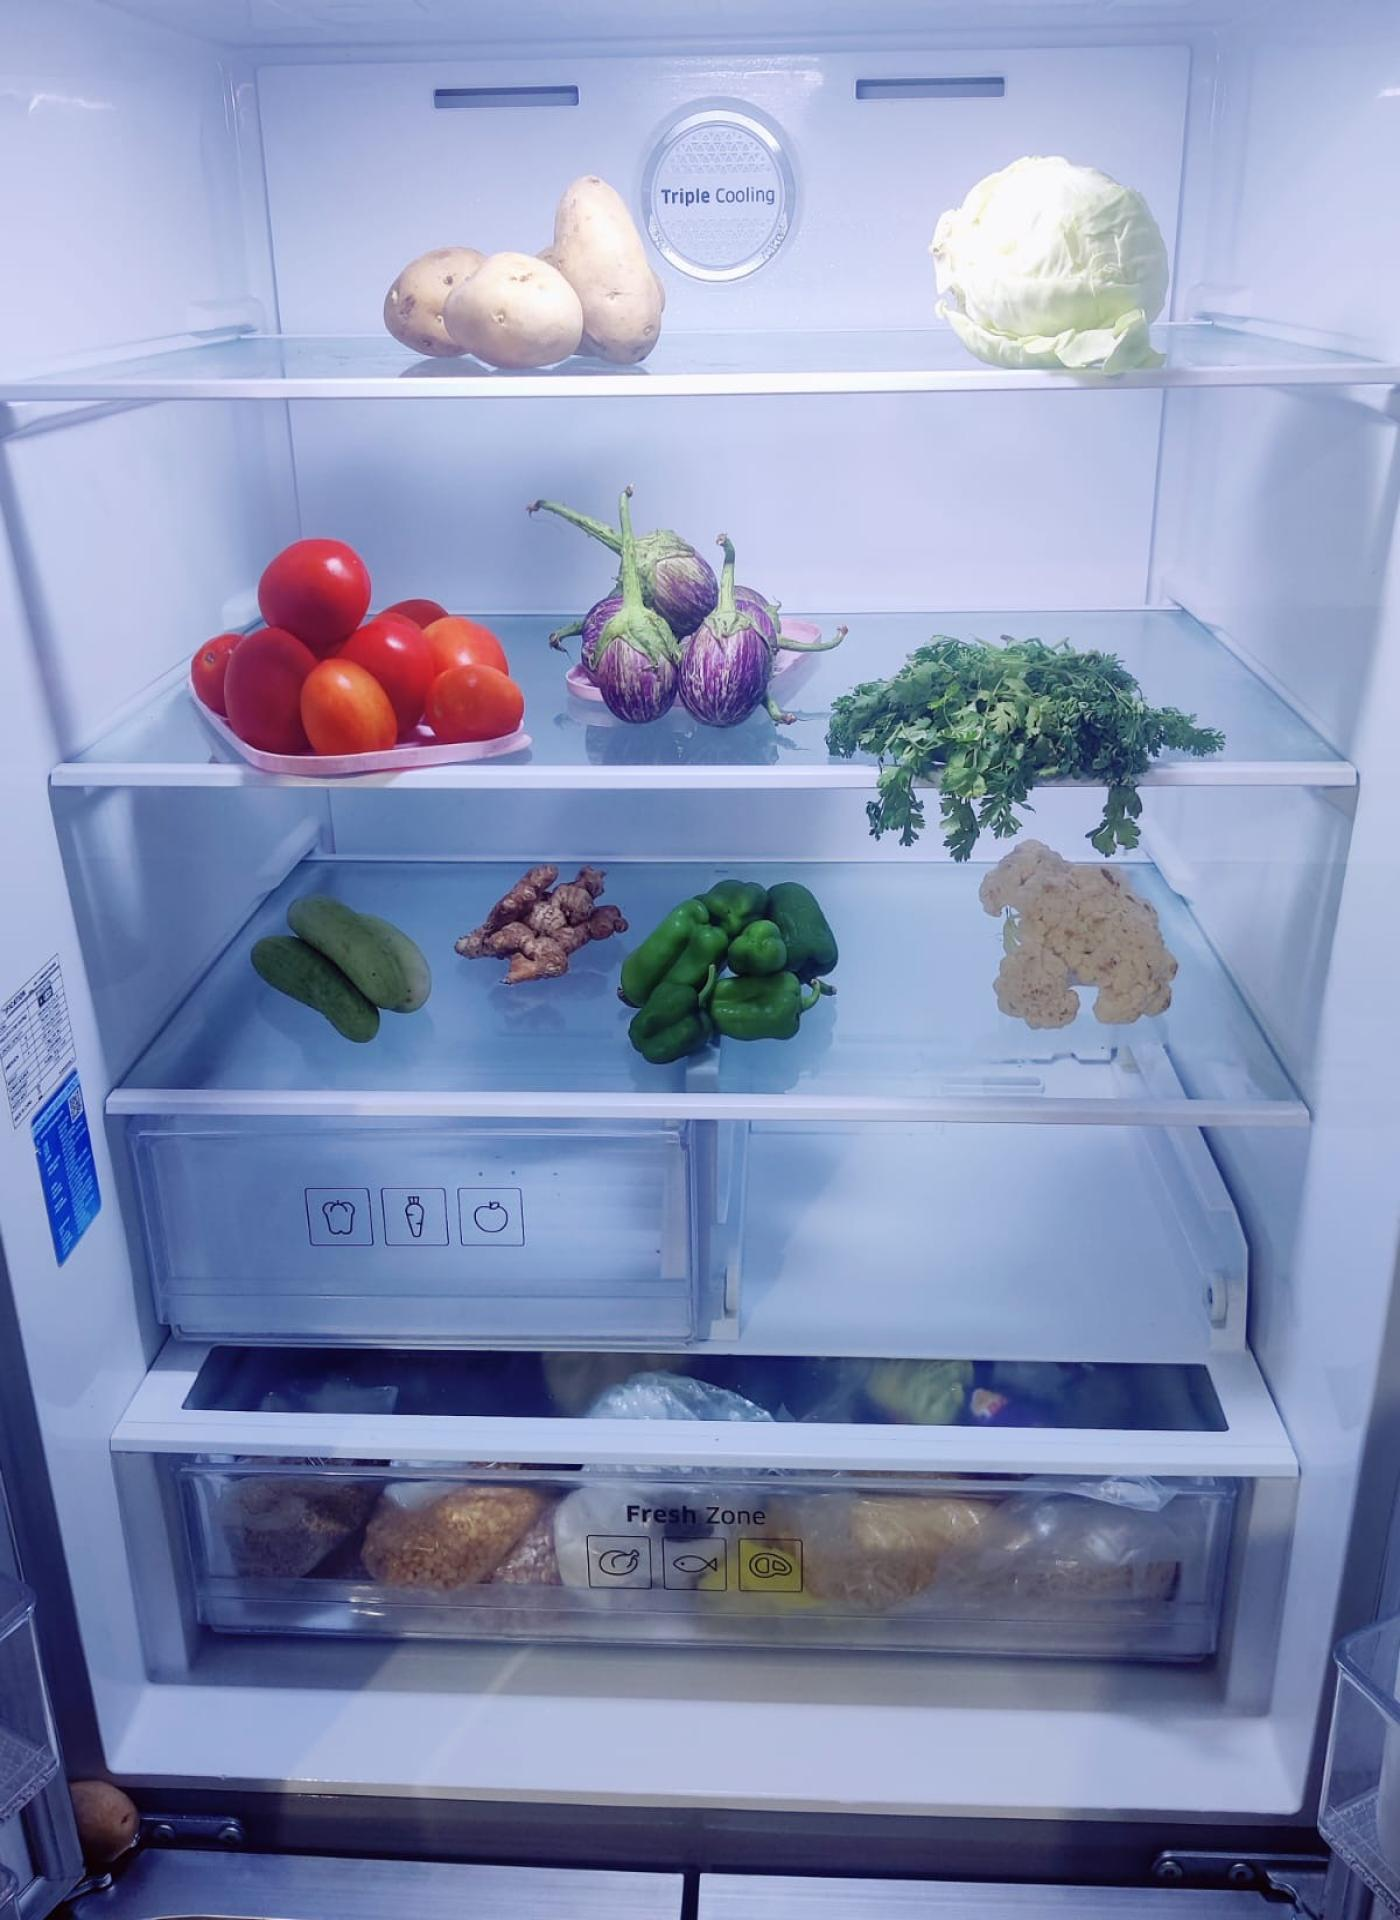brinjal: (578, 540, 775, 726)
cabbage: (935, 149, 1167, 358)
capsicum: (631, 882, 841, 1066)
cauliflower: (991, 838, 1185, 1023)
coriander: (838, 635, 1214, 803)
cucumber: (256, 890, 437, 1038)
ginger: (459, 859, 625, 978)
potato: (380, 173, 662, 361)
tomato: (195, 535, 526, 753)
